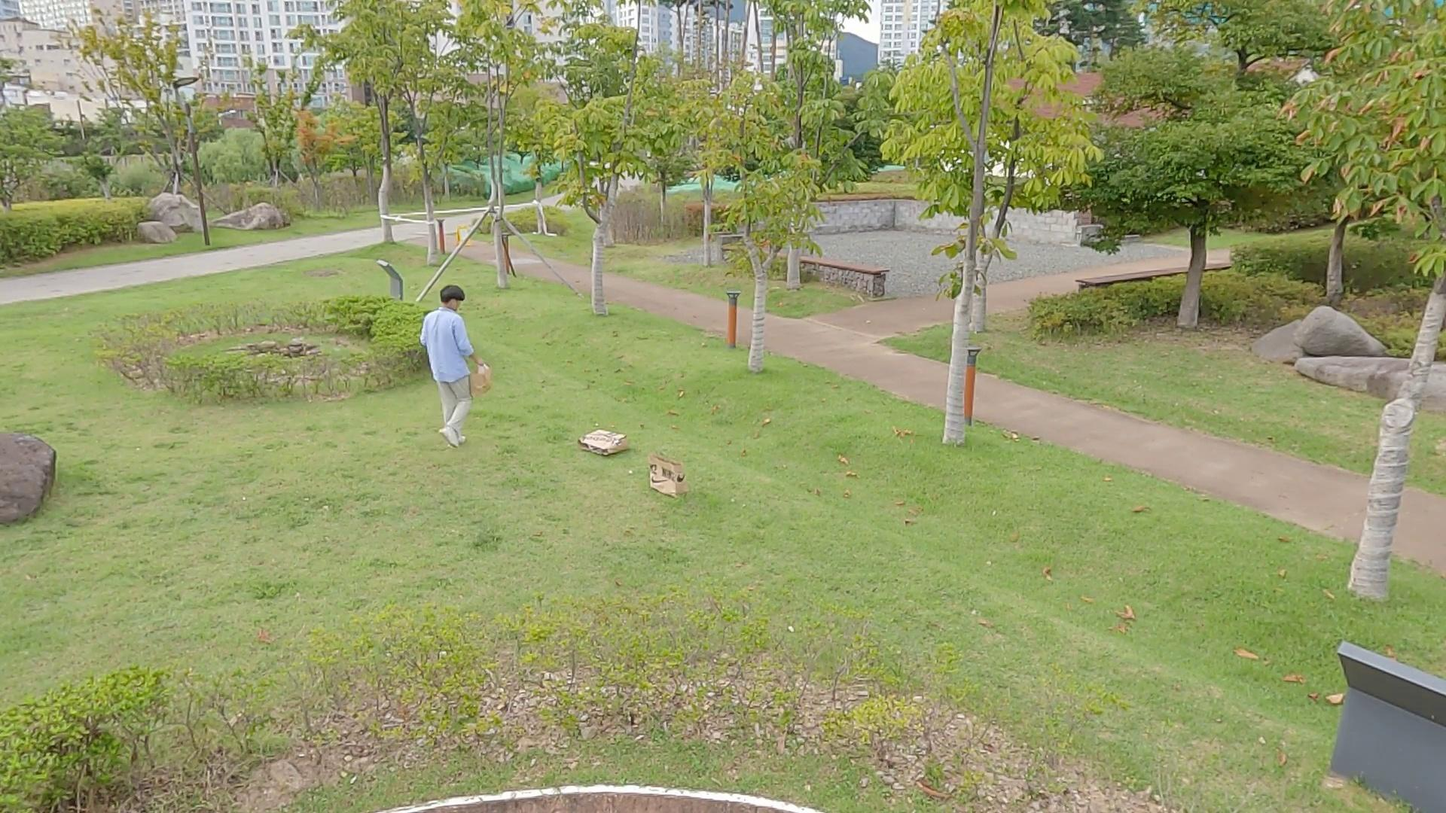person: (417, 283, 488, 450)
trash: (642, 450, 693, 505), (574, 422, 632, 461), (466, 359, 496, 400)
